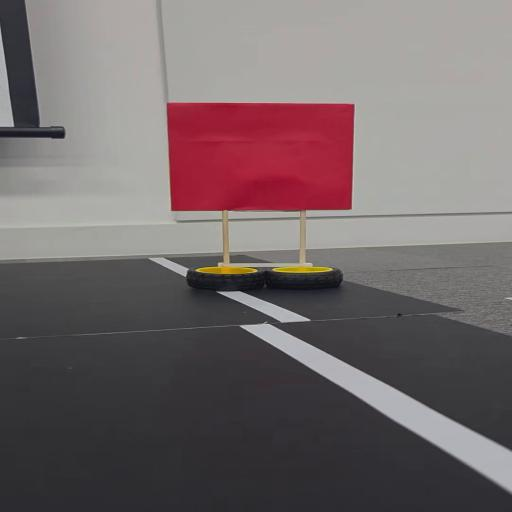Sign_A: (163, 98, 368, 291)
